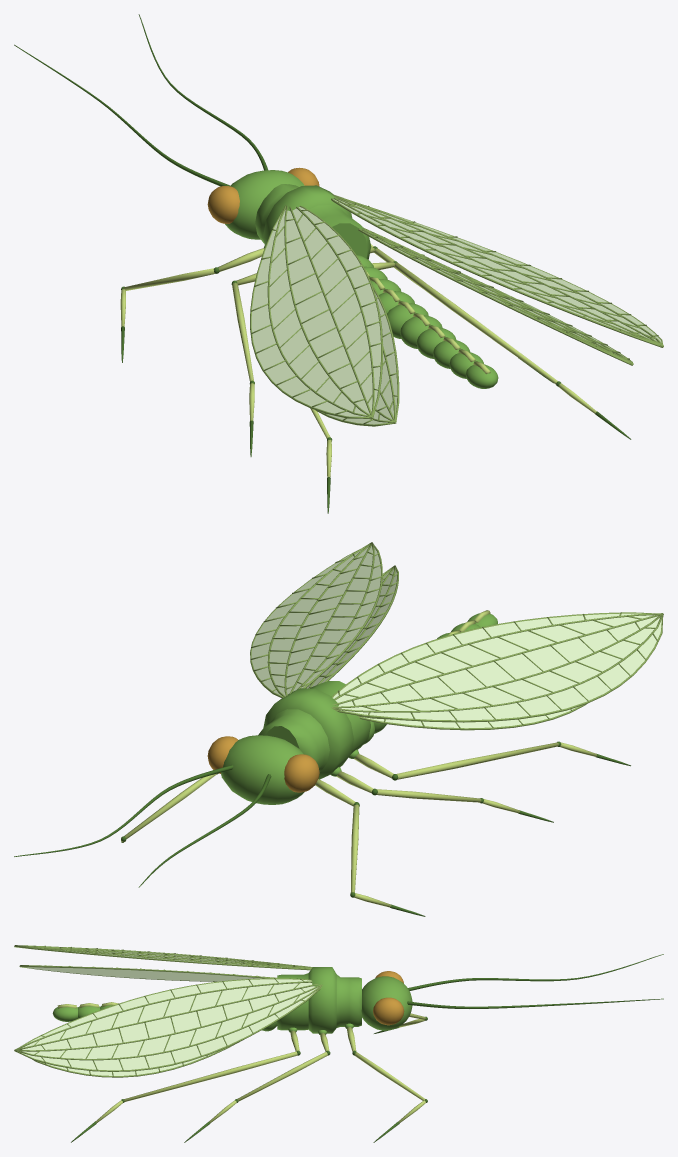
The model's file is Lacewing.fbx.
3 views of the same model, one above another, from view 1: azimuth 30°, elevation 25°; view 2: azimuth 150°, elevation 25°; view 3: azimuth 270°, elevation 25° (orthographic). The views are drawn at different scales.
Parts seen in each view (by area): view 1: Material group Lacewing_WingMembrane, Material group Lacewing_NetVeins, Material group Lacewing_GreenCuticle, Material group Lacewing_PaleStripe, Material group Lacewing_Joints, Material group Lacewing_GoldenEyes; view 2: Material group Lacewing_WingMembrane, Material group Lacewing_NetVeins, Material group Lacewing_GreenCuticle, Material group Lacewing_PaleStripe, Material group Lacewing_Joints, Material group Lacewing_GoldenEyes; view 3: Material group Lacewing_WingMembrane, Material group Lacewing_NetVeins, Material group Lacewing_GreenCuticle, Material group Lacewing_PaleStripe, Material group Lacewing_Joints, Material group Lacewing_GoldenEyes.
Part boxes in pixels (x1,y1,x2,y2): Material group Lacewing_WingMembrane: (251,199,661,424); Material group Lacewing_NetVeins: (250,194,663,426); Material group Lacewing_GreenCuticle: (225,170,498,388); Material group Lacewing_PaleStripe: (120,244,596,477); Material group Lacewing_Joints: (14,14,631,513); Material group Lacewing_GoldenEyes: (207,167,319,223); Material group Lacewing_WingMembrane: (251,546,661,728); Material group Lacewing_NetVeins: (250,542,663,730); Material group Lacewing_GreenCuticle: (221,613,497,804); Material group Lacewing_PaleStripe: (121,610,596,907); Material group Lacewing_Joints: (14,741,630,916); Material group Lacewing_GoldenEyes: (207,736,319,792); Material group Lacewing_WingMembrane: (22,949,317,1075); Material group Lacewing_NetVeins: (14,945,322,1077); Material group Lacewing_GreenCuticle: (52,967,412,1034); Material group Lacewing_PaleStripe: (57,1002,425,1122); Material group Lacewing_Joints: (71,954,663,1142); Material group Lacewing_GoldenEyes: (373,971,404,1025).
Bounding box in the file's own units: 0.4437 × 0.2008 × 1.
